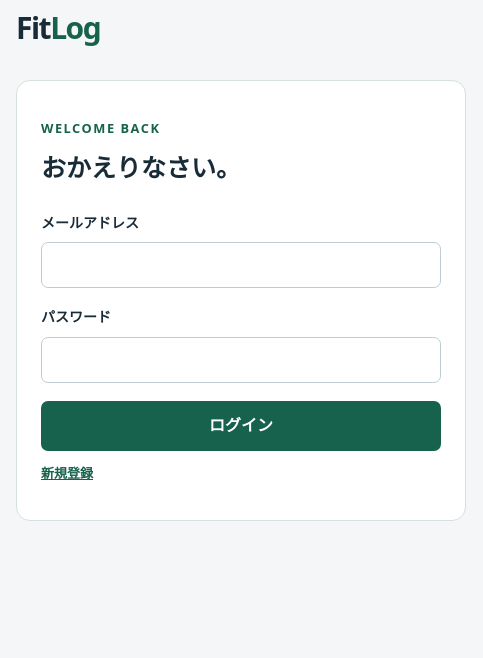
Test: keeps input and never shows home after HTTP 400
Type "river@example.test" into the field labelled "メールアドレス" at [241, 265], box [41,242,441,288]
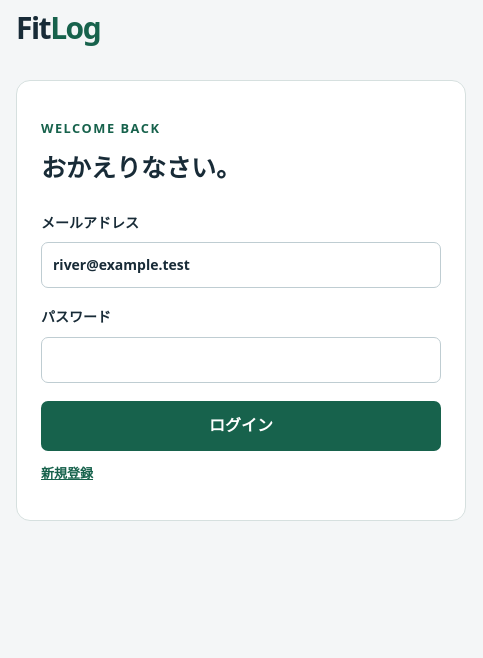
Type "River-lantern-42!pine" into the password field labelled "パスワード" at [241, 360], box [41,337,441,383]
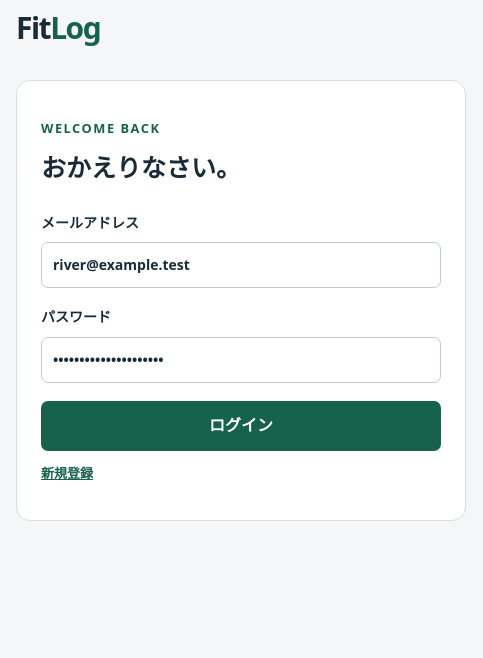
Click the button "ログイン" at [241, 426], box [41,401,441,451]
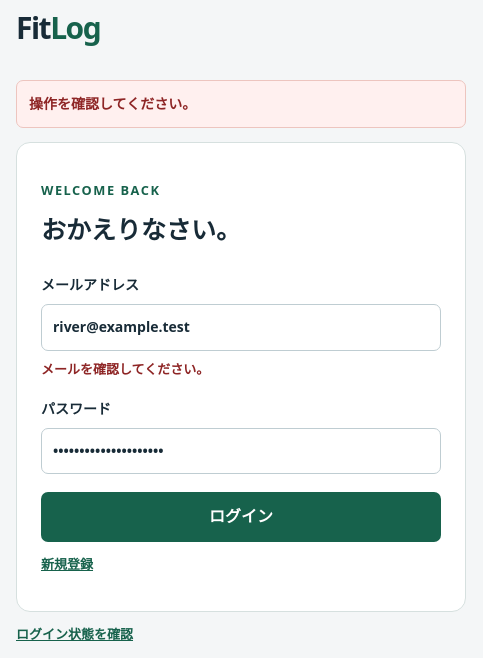
Expected: the message reads "操作を確認してください。", [29,94,196,113]
